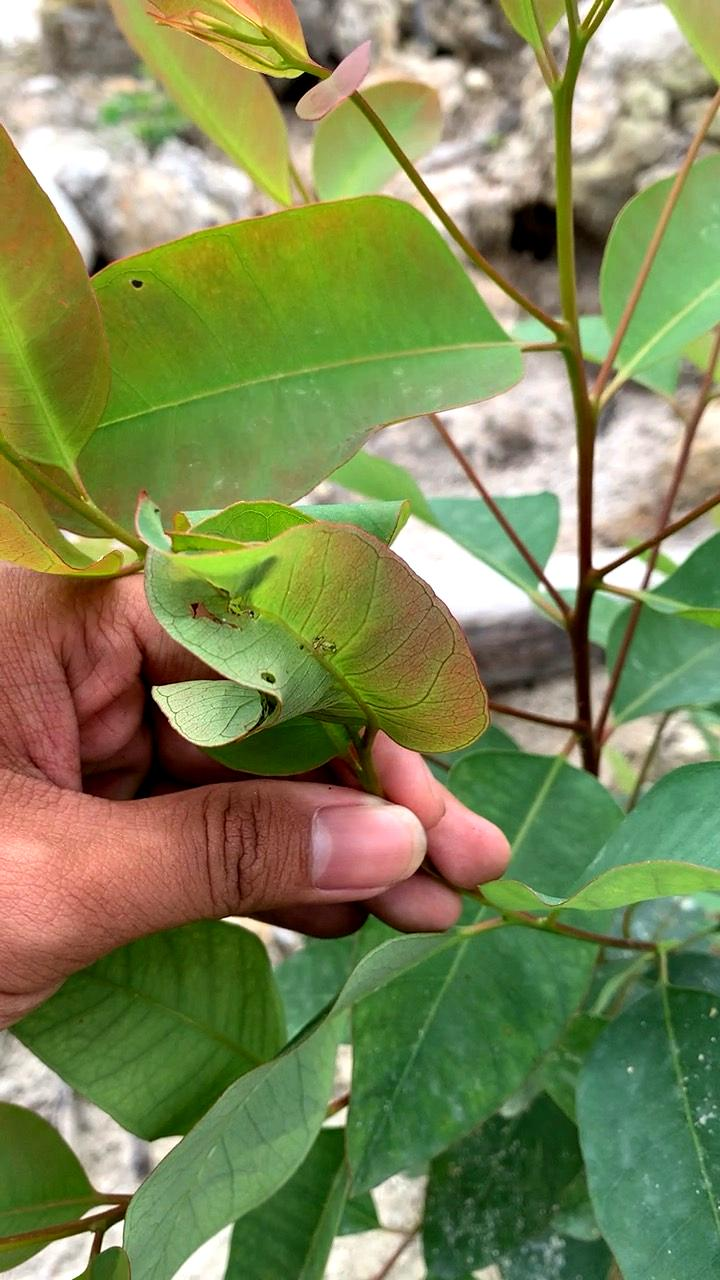Leaf Roller - Leaf: (135, 486, 498, 808)
